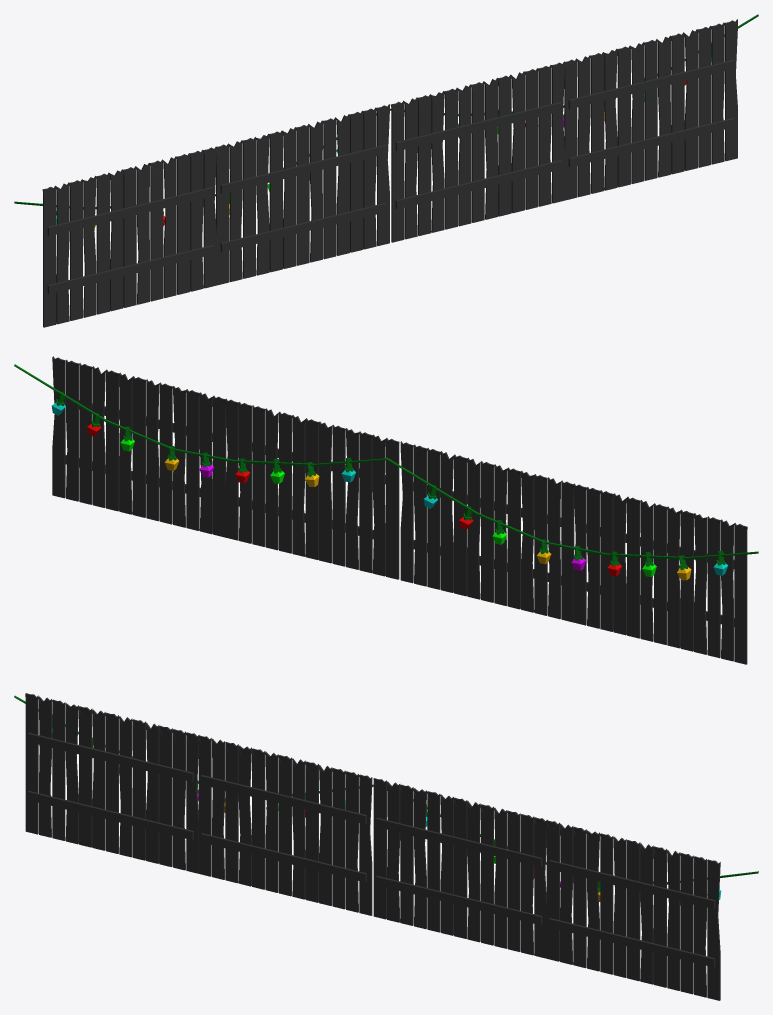
Rendered from Fence_Decor.obj.
The picture shows the model from 3 angles, top to bottom: view 1: azimuth 30°, elevation 25°; view 2: azimuth 150°, elevation 25°; view 3: azimuth 330°, elevation 25°; orthographic projection.
Visible parts, largest first — view 1: whole_fence003, whole_fence001, whole_fence, whole_fence002; view 2: whole_fence001, whole_fence002, whole_fence003, whole_fence, Decor_light032, Decor_light033; view 3: whole_fence, whole_fence002, whole_fence001, whole_fence003.
Part boxes in pixels (x1,y1,x2,y2): whole_fence003: (42, 146, 216, 327); whole_fence001: (390, 61, 565, 242); whole_fence: (564, 19, 737, 200); whole_fence002: (216, 104, 389, 285); whole_fence001: (225, 398, 399, 579); whole_fence002: (400, 441, 574, 622); whole_fence003: (573, 483, 747, 664); whole_fence: (52, 356, 226, 537); Decor_light032: (14, 364, 386, 487); Decor_light033: (386, 457, 758, 580); whole_fence: (546, 820, 720, 1000); whole_fence002: (198, 735, 372, 915); whole_fence001: (373, 778, 547, 958); whole_fence003: (25, 693, 199, 873).
Size of the model in its own units: 9.22 by 1.64 by 0.2719.
